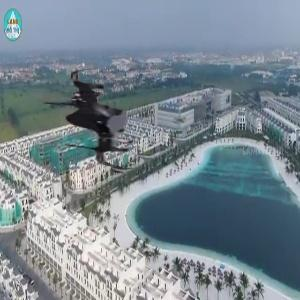drone: (31, 64, 140, 173)
